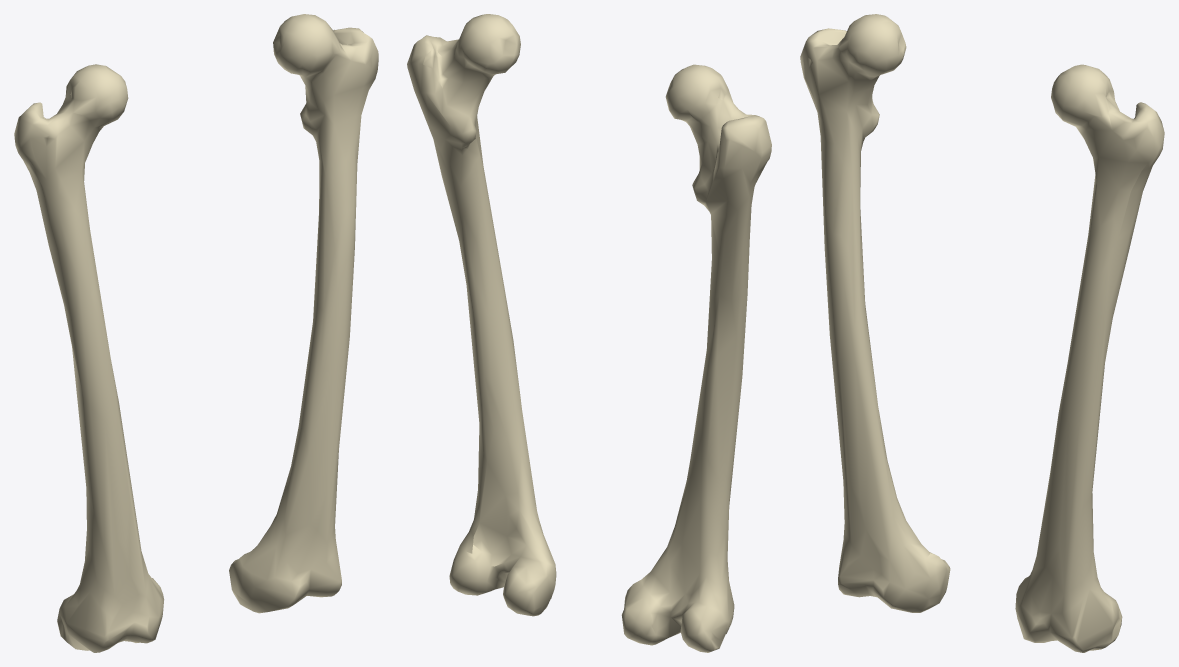
File: femur.glb
3 renders of one model, left to right at view 1: azimuth 30°, elevation 25°; view 2: azimuth 150°, elevation 25°; view 3: azimuth 330°, elevation 25°, orthographic.
Parts seen in each view (by area): view 1: Femur; view 2: Femur; view 3: Femur.
Boxes of the visible parts, box(x1,y1,x2,y2) form: Femur: box(14, 14, 378, 652); Femur: box(407, 14, 771, 652); Femur: box(800, 14, 1164, 652).
Size of the model in its own units: 0.3002 by 0.4658 by 0.0628.
